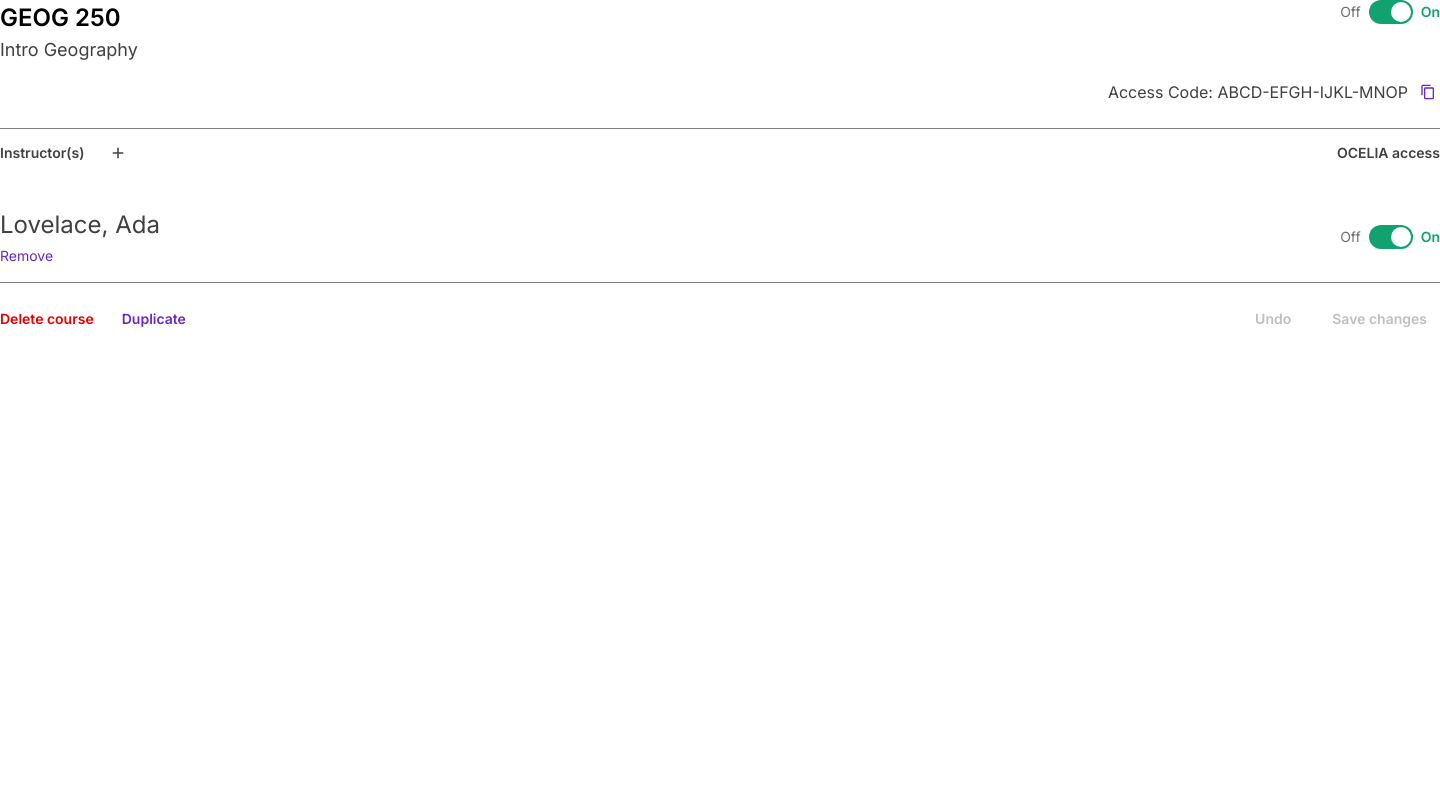
Test: CourseDetail (staged editing) › Cancel on the remove confirmation aborts the save but keeps the removal staged; Undo restores
The image size is (1440, 810).
Click the button "Remove" at (27, 256), box [0,246,53,266]
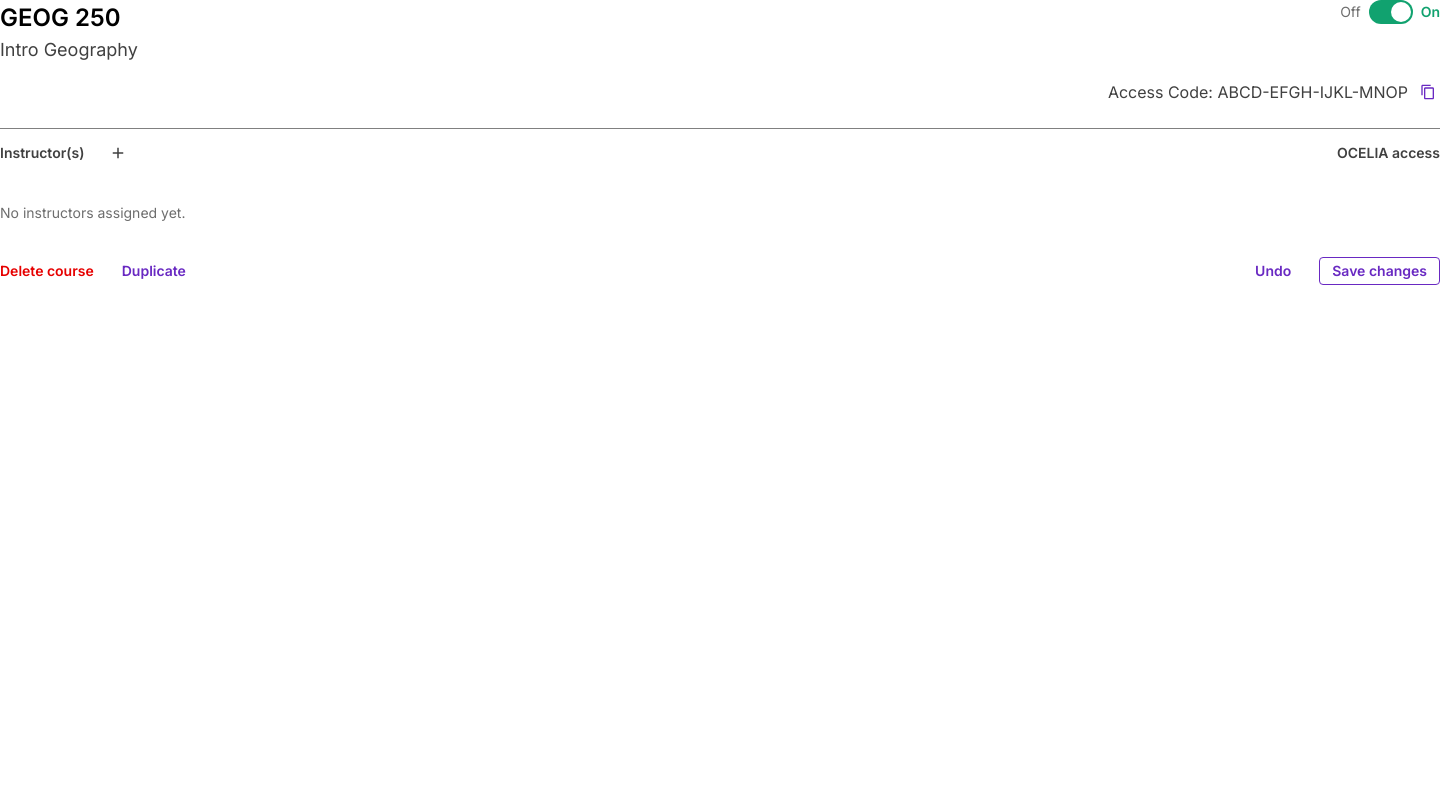
Click the button "Save changes" at (1380, 271), box [1319,257,1439,285]
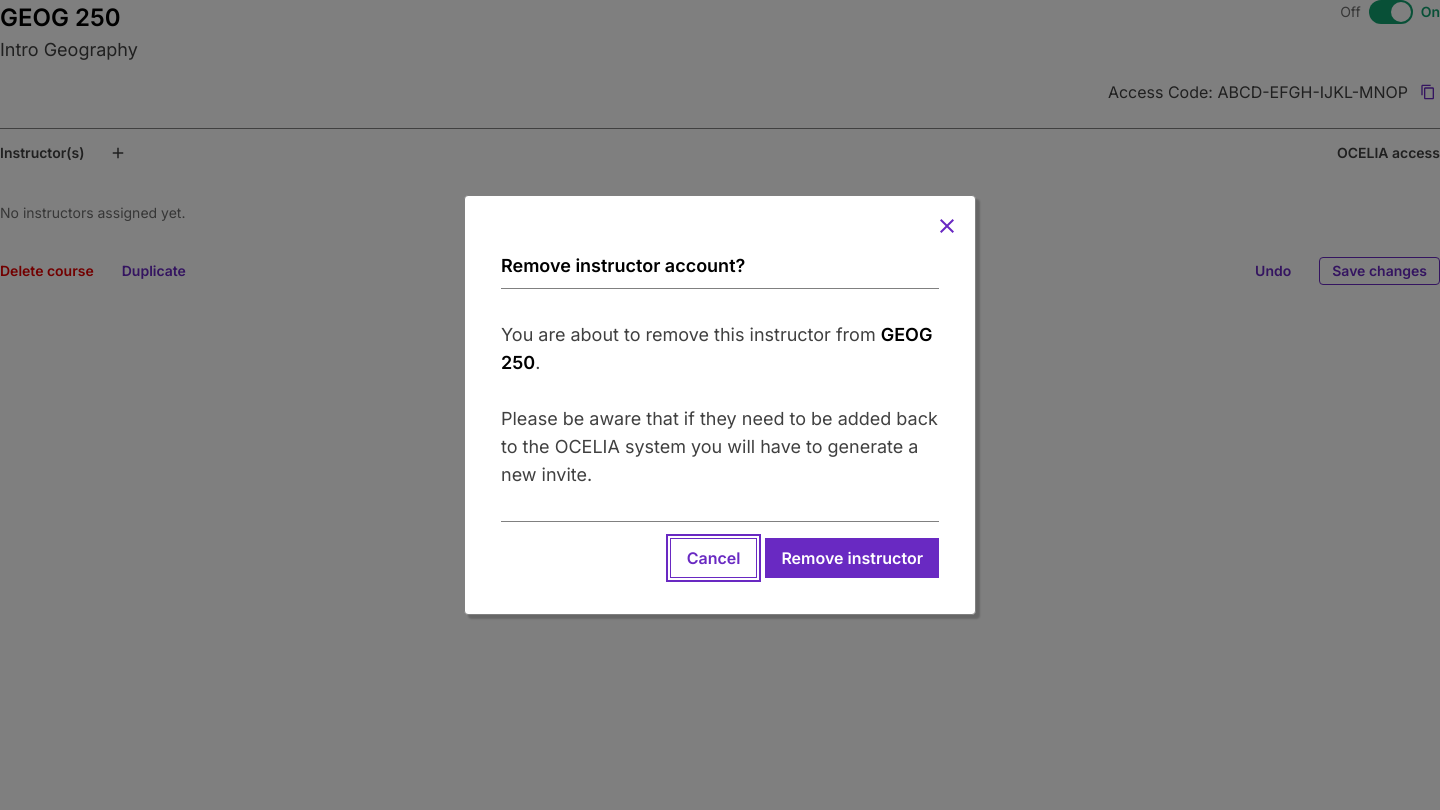
Cancel just closes the confirmation — nothing is unenrolled…
Click the button "Cancel" at (714, 558), box [670,538,757,578]
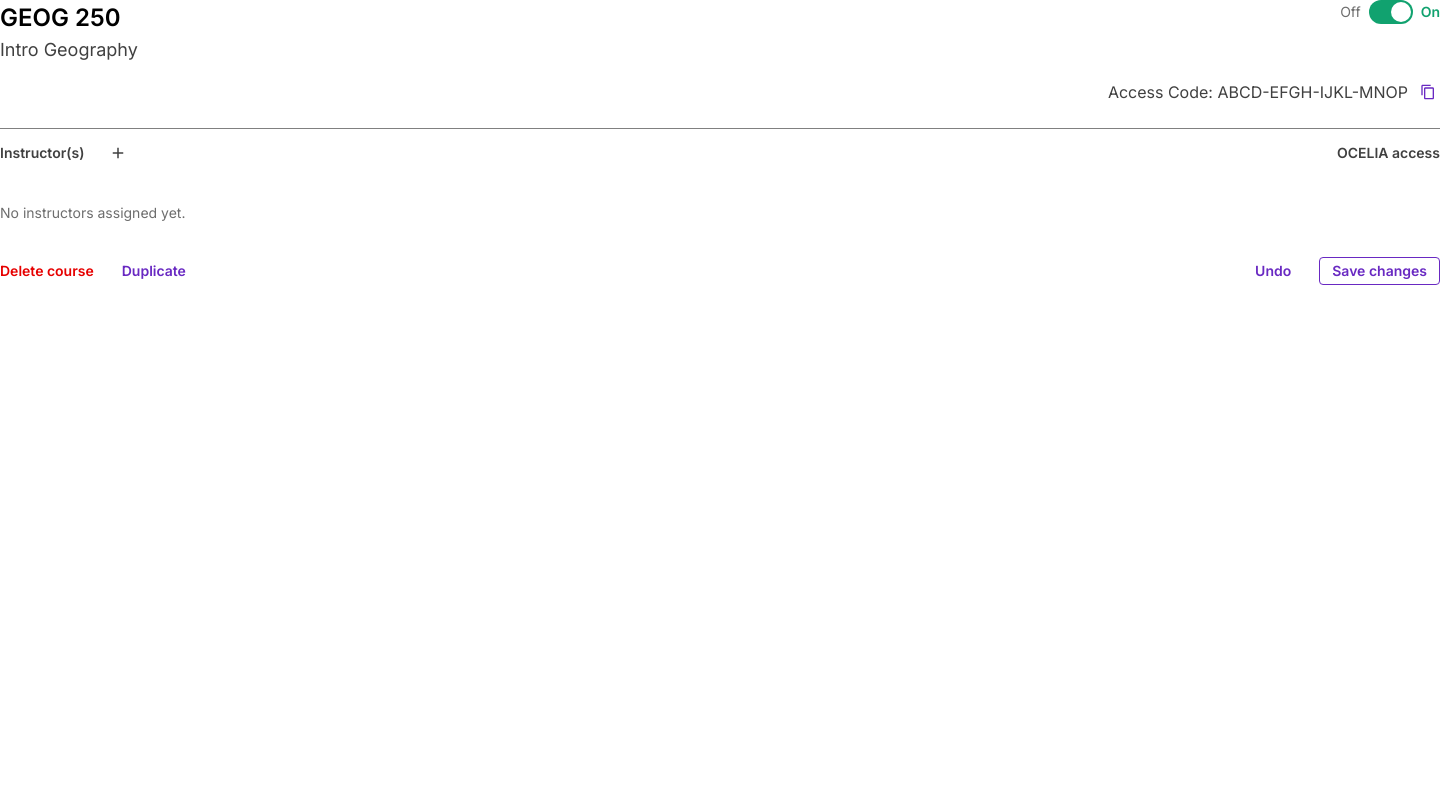
Expected: the text "Lovelace, Ada" is not shown
Expected: the button "Save changes" is enabled, [1319,257,1439,285]
Expected: the dialog is gone
Undo is what actually adds the instructor back.
Click the button "Undo" at (1273, 271), box [1243,257,1303,285]
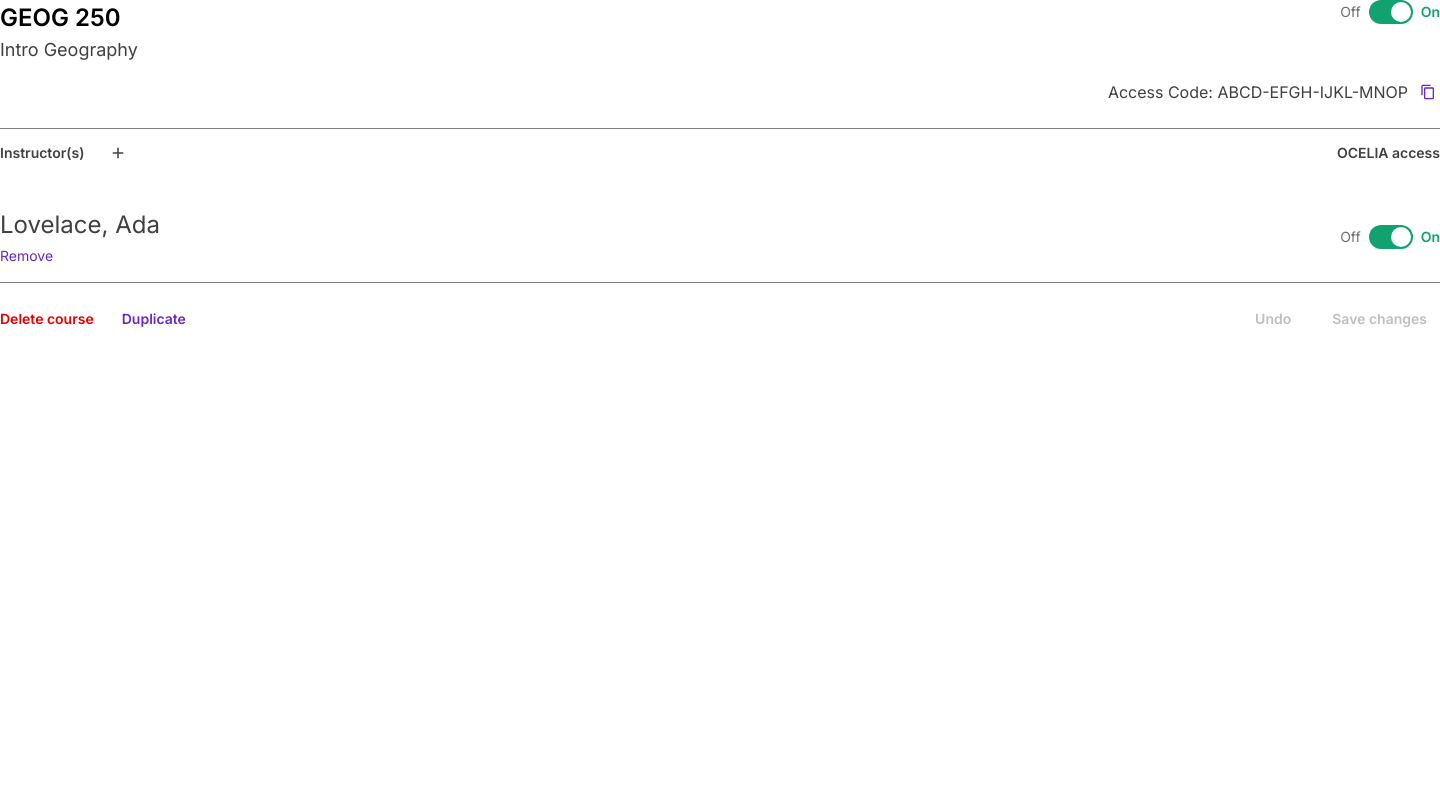
Expected: the text "Lovelace, Ada" is shown, [0,210,160,239]
